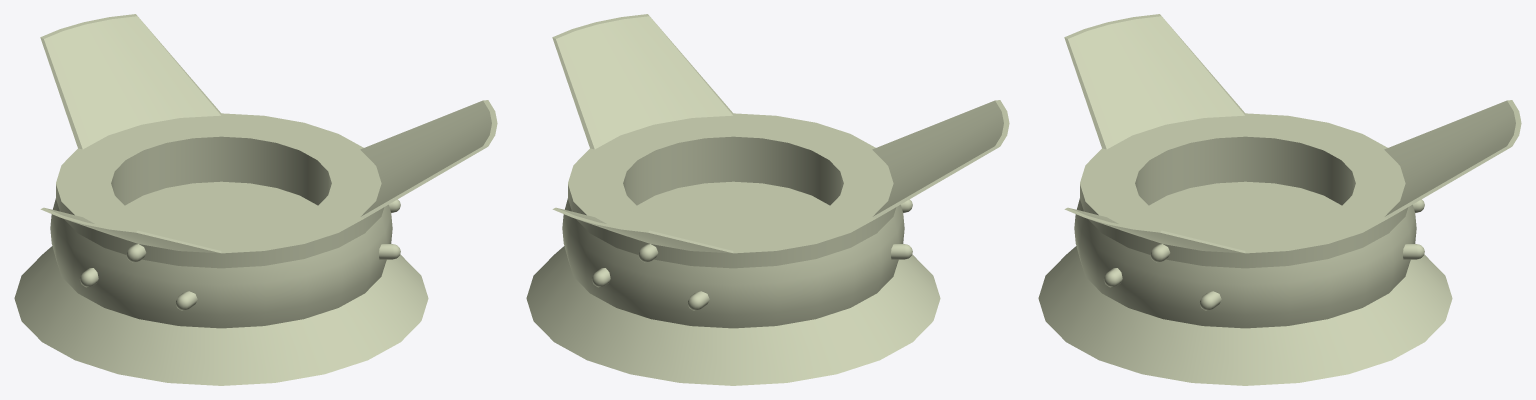
File: octans_androgynous_docking_port_s0p5_1.obj
3 views of the same model, side by side, from view 1: azimuth 30°, elevation 25°; view 2: azimuth 150°, elevation 25°; view 3: azimuth 270°, elevation 25° (orthographic).
Parts seen in each view (by area): view 1: mesh, guide; view 2: mesh, guide; view 3: mesh, guide.
Boxes of the visible parts, x1=… form: mesh: x1=14, y1=151, x2=428, y2=385; guide: x1=40, y1=14, x2=497, y2=268; mesh: x1=526, y1=151, x2=940, y2=385; guide: x1=552, y1=14, x2=1009, y2=268; mesh: x1=1038, y1=151, x2=1452, y2=385; guide: x1=1064, y1=14, x2=1521, y2=268.
Size of the model in its own units: 1.17 by 0.4375 by 1.09.
